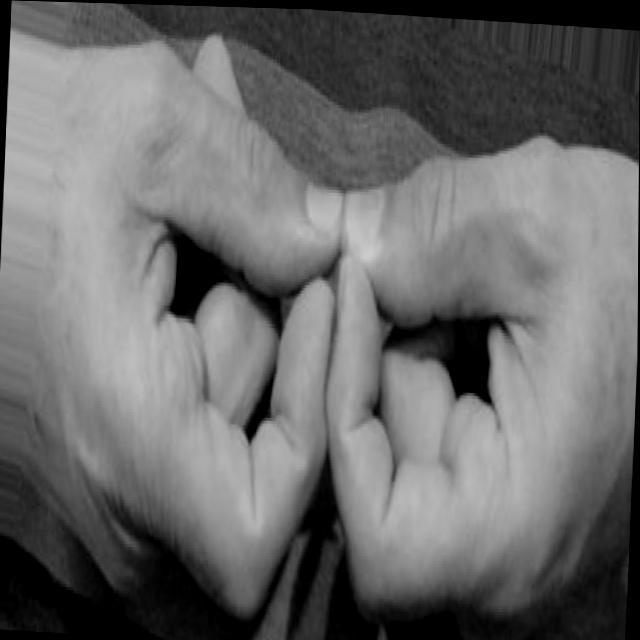B: (20, 26, 640, 640)
